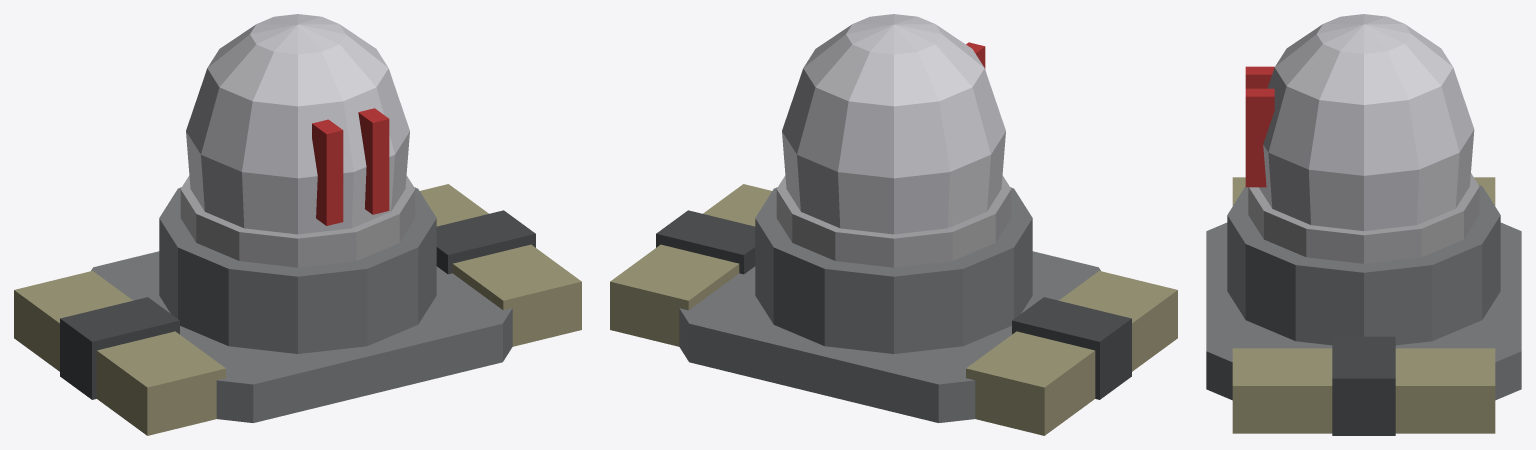
The model's file is shard_inhibitor.obj.
The picture shows the model from 3 angles, left to right: view 1: azimuth 30°, elevation 25°; view 2: azimuth 150°, elevation 25°; view 3: azimuth 270°, elevation 25°; orthographic projection.
Visible parts, largest first — view 1: shard_inhibitor_7, shard_inhibitor_5, shard_inhibitor_0, shard_inhibitor_1, shard_inhibitor_3, shard_inhibitor_6, shard_inhibitor_2, shard_inhibitor_4, shard_inhibitor_8, shard_inhibitor_9; view 2: shard_inhibitor_7, shard_inhibitor_5, shard_inhibitor_0, shard_inhibitor_1, shard_inhibitor_3, shard_inhibitor_6, shard_inhibitor_2, shard_inhibitor_4; view 3: shard_inhibitor_7, shard_inhibitor_5, shard_inhibitor_3, shard_inhibitor_0, shard_inhibitor_6, shard_inhibitor_4, shard_inhibitor_9, shard_inhibitor_1, shard_inhibitor_8.
Boxes of the visible parts, bbox=[...] form: shard_inhibitor_7: bbox=[186, 14, 409, 234]; shard_inhibitor_5: bbox=[159, 187, 436, 353]; shard_inhibitor_0: bbox=[91, 251, 512, 422]; shard_inhibitor_1: bbox=[14, 271, 225, 435]; shard_inhibitor_3: bbox=[420, 184, 581, 346]; shard_inhibitor_6: bbox=[180, 176, 415, 267]; shard_inhibitor_2: bbox=[60, 297, 179, 399]; shard_inhibitor_4: bbox=[436, 210, 535, 274]; shard_inhibitor_8: bbox=[312, 119, 343, 225]; shard_inhibitor_9: bbox=[358, 108, 389, 214]; shard_inhibitor_7: bbox=[782, 14, 1005, 234]; shard_inhibitor_5: bbox=[755, 187, 1032, 353]; shard_inhibitor_0: bbox=[679, 251, 1100, 422]; shard_inhibitor_1: bbox=[966, 271, 1177, 435]; shard_inhibitor_3: bbox=[610, 184, 771, 346]; shard_inhibitor_6: bbox=[776, 176, 1011, 267]; shard_inhibitor_2: bbox=[1012, 297, 1131, 399]; shard_inhibitor_4: bbox=[656, 210, 755, 274]; shard_inhibitor_7: bbox=[1259, 14, 1474, 230]; shard_inhibitor_5: bbox=[1227, 185, 1500, 345]; shard_inhibitor_3: bbox=[1232, 348, 1495, 433]; shard_inhibitor_0: bbox=[1206, 222, 1521, 400]; shard_inhibitor_6: bbox=[1248, 173, 1479, 263]; shard_inhibitor_4: bbox=[1332, 336, 1395, 435]; shard_inhibitor_9: bbox=[1245, 88, 1274, 187]; shard_inhibitor_1: bbox=[1232, 177, 1495, 205]; shard_inhibitor_8: bbox=[1245, 66, 1274, 88].
Bounding box in the file's own units: 0.96 × 0.64 × 0.6.
